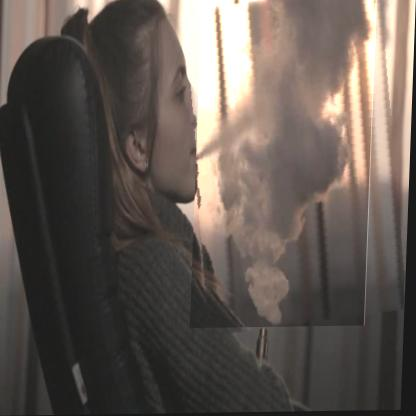smoke: (198, 0, 375, 328)
